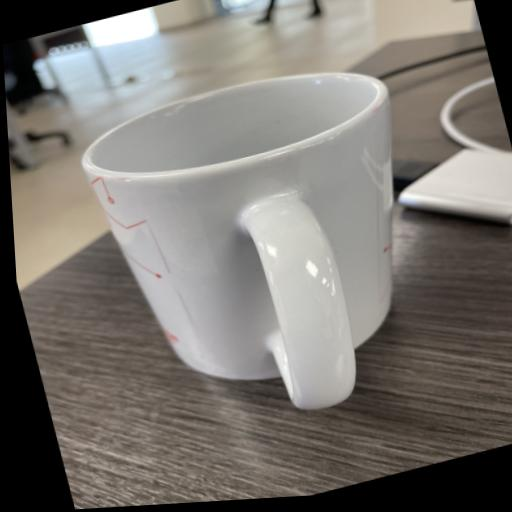taza: (64, 39, 473, 459)
